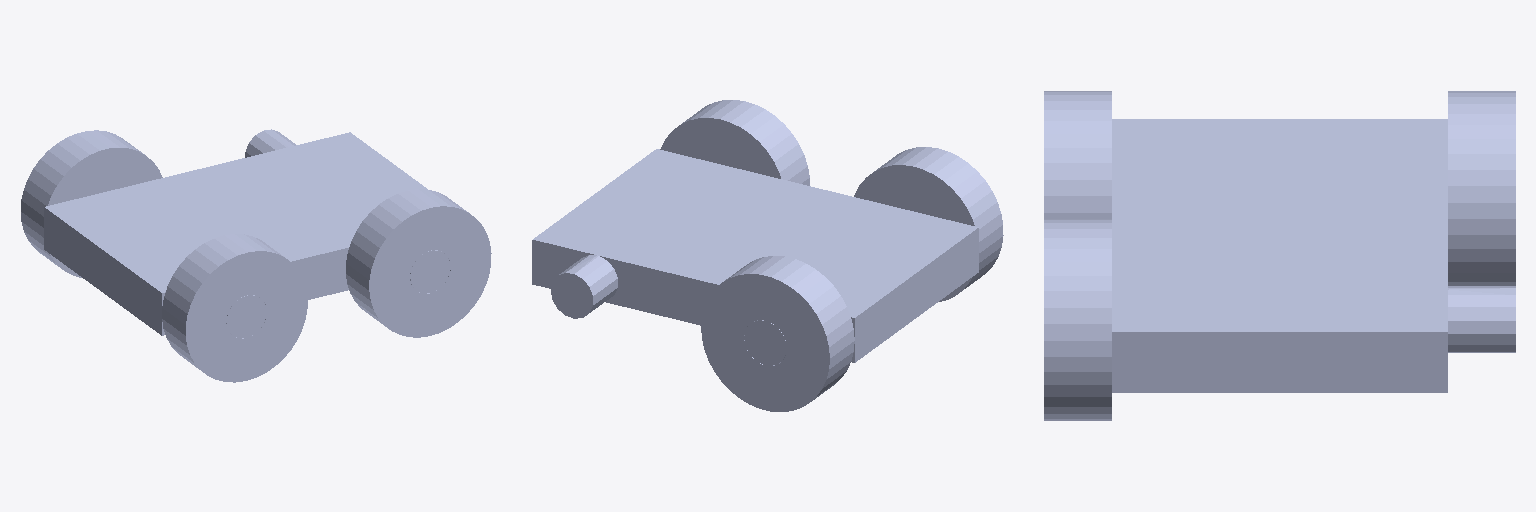
robot.urdf — igv_final_2:
<?xml version="1.0" encoding="utf-8"?>
<!-- This URDF was automatically created by SolidWorks to URDF Exporter! Originally created by [author] ([email redacted]) 
     Commit Version: 1.5.1-0-g916b5db  Build Version: 1.5.7152.31018
     For more information, please see http://wiki.ros.org/sw_urdf_exporter -->
<robot
  name="igv_final_2">
  <link
    name="base_link">
    <inertial>
      <origin
        xyz="1.74599256696404E-17 -0.01 2.60519117223708E-18"
        rpy="0 0 0" />
      <mass
        value="0.325132741228718" />
      <inertia
        ixx="0.000351943944995061"
        ixy="-4.42031378597748E-21"
        ixz="-2.52124650706163E-20"
        iyy="0.000955337745983216"
        iyz="-2.28612513537026E-36"
        izz="0.000624650438049591" />
    </inertial>
    <visual>
      <origin
        xyz="0 0 0"
        rpy="0 0 0" />
      <geometry>
        <mesh
          filename="package://igv_final_2/meshes/base_link.STL" />
      </geometry>
      <material
        name="">
        <color
          rgba="0.792156862745098 0.819607843137255 0.933333333333333 1" />
      </material>
    </visual>
    <collision>
      <origin
        xyz="0 0 0"
        rpy="0 0 0" />
      <geometry>
        <mesh
          filename="package://igv_final_2/meshes/base_link.STL" />
      </geometry>
    </collision>
  </link>
  <link
    name="wheel4">
    <inertial>
      <origin
        xyz="6.93889390390723E-18 0 -0.01"
        rpy="0 0 0" />
      <mass
        value="0.0502654824574367" />
      <inertia
        ixx="1.42418866962737E-05"
        ixy="-8.470329472543E-22"
        ixz="-2.60809356127663E-22"
        iyy="1.42418866962737E-05"
        iyz="-1.0815171008088E-22"
        izz="2.51327412287184E-05" />
    </inertial>
    <visual>
      <origin
        xyz="0 0 0"
        rpy="0 0 0" />
      <geometry>
        <mesh
          filename="package://igv_final_2/meshes/wheel4.STL" />
      </geometry>
      <material
        name="">
        <color
          rgba="0.792156862745098 0.819607843137255 0.933333333333333 1" />
      </material>
    </visual>
    <collision>
      <origin
        xyz="0 0 0"
        rpy="0 0 0" />
      <geometry>
        <mesh
          filename="package://igv_final_2/meshes/wheel4.STL" />
      </geometry>
    </collision>
  </link>
  <joint
    name="wheel4"
    type="revolute">
    <origin
      xyz="0.045 -0.05 -0.01"
      rpy="1.5708 0.39309 -3.1416" />
    <parent
      link="base_link" />
    <child
      link="wheel4" />
    <axis
      xyz="0 0 1" />
    <limit
      lower="0"
      upper="0"
      effort="0"
      velocity="0" />
  </joint>
  <link
    name="wheel1">
    <inertial>
      <origin
        xyz="0 1.73472347597681E-18 -0.01"
        rpy="0 0 0" />
      <mass
        value="0.0502654824574367" />
      <inertia
        ixx="1.42418866962737E-05"
        ixy="-6.72929976440549E-39"
        ixz="-8.11709805894804E-38"
        iyy="1.42418866962737E-05"
        iyz="-3.64261656012912E-38"
        izz="2.51327412287184E-05" />
    </inertial>
    <visual>
      <origin
        xyz="0 0 0"
        rpy="0 0 0" />
      <geometry>
        <mesh
          filename="package://igv_final_2/meshes/wheel1.STL" />
      </geometry>
      <material
        name="">
        <color
          rgba="0.792156862745098 0.819607843137255 0.933333333333333 1" />
      </material>
    </visual>
    <collision>
      <origin
        xyz="0 0 0"
        rpy="0 0 0" />
      <geometry>
        <mesh
          filename="package://igv_final_2/meshes/wheel1.STL" />
      </geometry>
    </collision>
  </link>
  <joint
    name="wheel1"
    type="revolute">
    <origin
      xyz="0.045 0.05 -0.01"
      rpy="1.5708 0 0" />
    <parent
      link="base_link" />
    <child
      link="wheel1" />
    <axis
      xyz="0 0 1" />
    <limit
      lower="0"
      upper="0"
      effort="0"
      velocity="0" />
  </joint>
  <link
    name="wheel2">
    <inertial>
      <origin
        xyz="6.93889390390723E-18 1.73472347597681E-18 -0.01"
        rpy="0 0 0" />
      <mass
        value="0.0502654824574367" />
      <inertia
        ixx="1.42418866962737E-05"
        ixy="-6.72929976440549E-39"
        ixz="-8.11709805894804E-38"
        iyy="1.42418866962737E-05"
        iyz="-3.64261656012912E-38"
        izz="2.51327412287184E-05" />
    </inertial>
    <visual>
      <origin
        xyz="0 0 0"
        rpy="0 0 0" />
      <geometry>
        <mesh
          filename="package://igv_final_2/meshes/wheel2.STL" />
      </geometry>
      <material
        name="">
        <color
          rgba="0.792156862745098 0.819607843137255 0.933333333333333 1" />
      </material>
    </visual>
    <collision>
      <origin
        xyz="0 0 0"
        rpy="0 0 0" />
      <geometry>
        <mesh
          filename="package://igv_final_2/meshes/wheel2.STL" />
      </geometry>
    </collision>
  </link>
  <joint
    name="wheel2"
    type="revolute">
    <origin
      xyz="-0.045 0.05 -0.01"
      rpy="1.5708 0 0" />
    <parent
      link="base_link" />
    <child
      link="wheel2" />
    <axis
      xyz="0 0 1" />
    <limit
      lower="0"
      upper="0"
      effort="0"
      velocity="0" />
  </joint>
  <link
    name="wheel3">
    <inertial>
      <origin
        xyz="-6.93889390390723E-18 0 -0.01"
        rpy="0 0 0" />
      <mass
        value="0.0502654824574367" />
      <inertia
        ixx="1.42418866962737E-05"
        ixy="0"
        ixz="3.68961066208544E-22"
        iyy="1.42418866962737E-05"
        iyz="-1.52657646046783E-22"
        izz="2.51327412287184E-05" />
    </inertial>
    <visual>
      <origin
        xyz="0 0 0"
        rpy="0 0 0" />
      <geometry>
        <mesh
          filename="package://igv_final_2/meshes/wheel3.STL" />
      </geometry>
      <material
        name="">
        <color
          rgba="0.792156862745098 0.819607843137255 0.933333333333333 1" />
      </material>
    </visual>
    <collision>
      <origin
        xyz="0 0 0"
        rpy="0 0 0" />
      <geometry>
        <mesh
          filename="package://igv_final_2/meshes/wheel3.STL" />
      </geometry>
    </collision>
  </link>
  <joint
    name="wheel3"
    type="revolute">
    <origin
      xyz="-0.045 -0.05 -0.01"
      rpy="1.5708 0.39309 -3.1416" />
    <parent
      link="base_link" />
    <child
      link="wheel3" />
    <axis
      xyz="0 0 1" />
    <limit
      lower="0"
      upper="0"
      effort="0"
      velocity="0" />
  </joint>
</robot>

--- Facts derived from the render (not from the file) ---
Views: 3 orthographic renders of the robot side by side, from view 1: azimuth 30°, elevation 25°; view 2: azimuth 150°, elevation 25°; view 3: azimuth 270°, elevation 25°.
Robot: igv_final_2 — 5 links, 4 joints (4 revolute); root link base_link; default pose: all joints at 0.
Visible links, largest first — view 1: base_link, wheel3, wheel4, wheel2; view 2: base_link, wheel2, wheel3, wheel4; view 3: base_link, wheel4, wheel2, wheel3.
Link boxes in pixels (bbox=[...]): base_link: bbox=[44, 129, 450, 338]; wheel3: bbox=[162, 234, 307, 382]; wheel4: bbox=[346, 189, 491, 337]; wheel2: bbox=[21, 130, 162, 277]; base_link: bbox=[532, 149, 978, 365]; wheel2: bbox=[701, 256, 854, 411]; wheel3: bbox=[854, 147, 1003, 301]; wheel4: bbox=[660, 100, 809, 185]; base_link: bbox=[1112, 119, 1515, 392]; wheel4: bbox=[1044, 219, 1111, 420]; wheel2: bbox=[1448, 91, 1515, 285]; wheel3: bbox=[1044, 91, 1111, 218].
Size in the robot's own frame: 0.15 by 0.14 by 0.06 metres.
4 mesh visuals loaded from 5 distinct referenced files (4 binary STL); not drawn: 1 (reference not matched to a file when rendering).